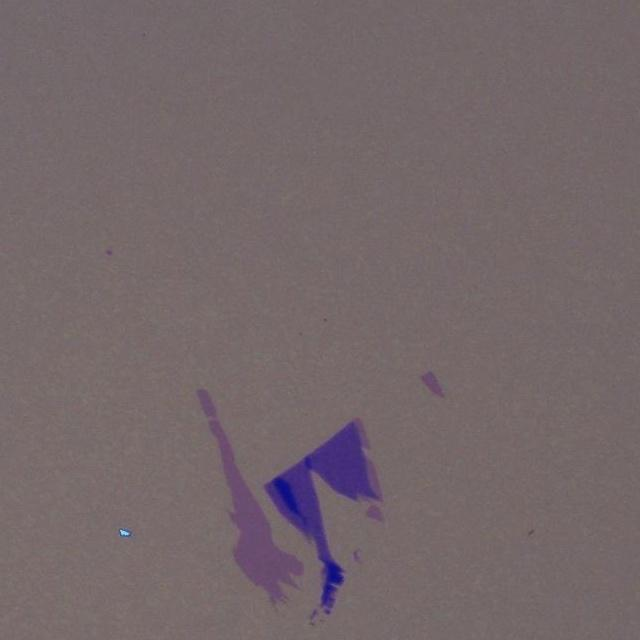monolayer-eWW4: (198, 380, 308, 613), (422, 369, 444, 398), (354, 415, 371, 451), (366, 458, 382, 496), (364, 504, 384, 524)
